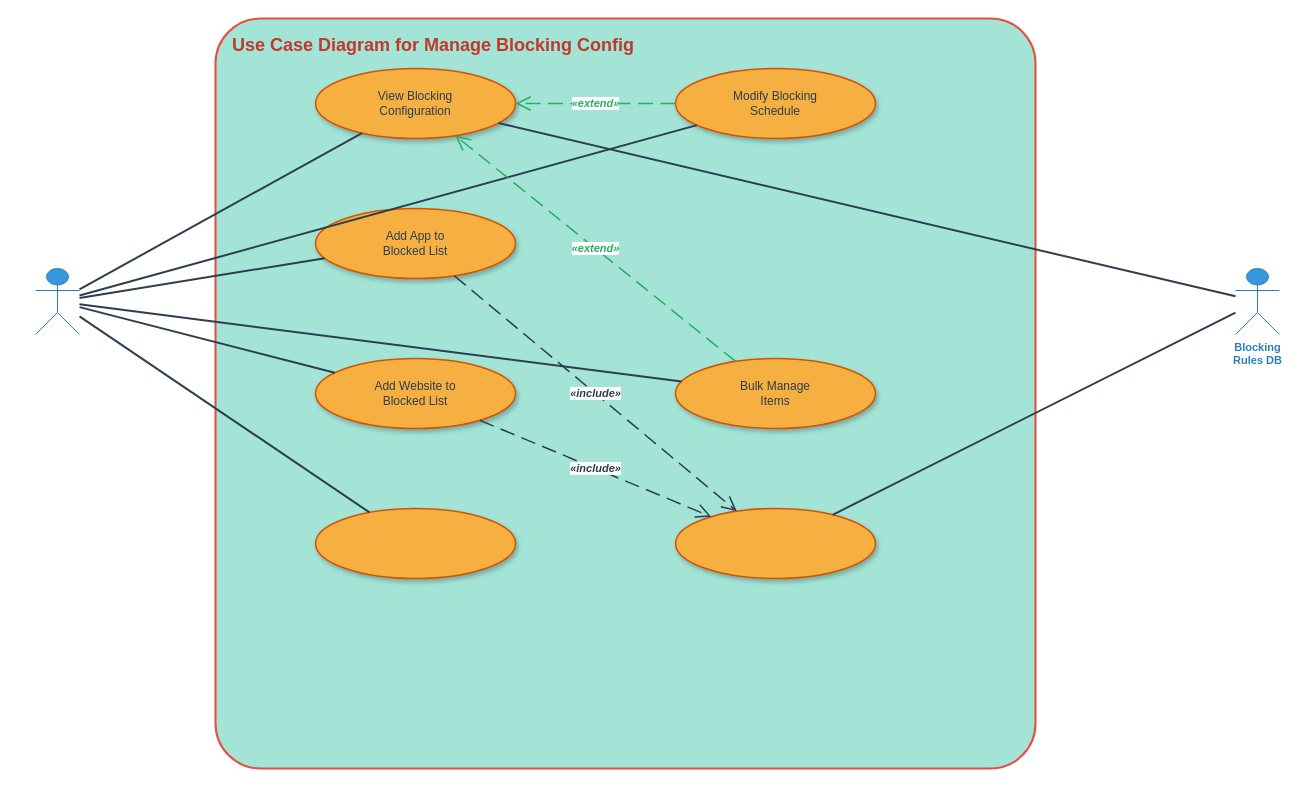
The diagram is 1299 pixels wide and 786 high, and some of its shapes have lost their labels. Each missing label, with the centre of its shape:
"Authenticated User" goes at [57,301].
"Remove Blocked Item" goes at [416,544].
"Verify Permission Status" goes at [776,544].
